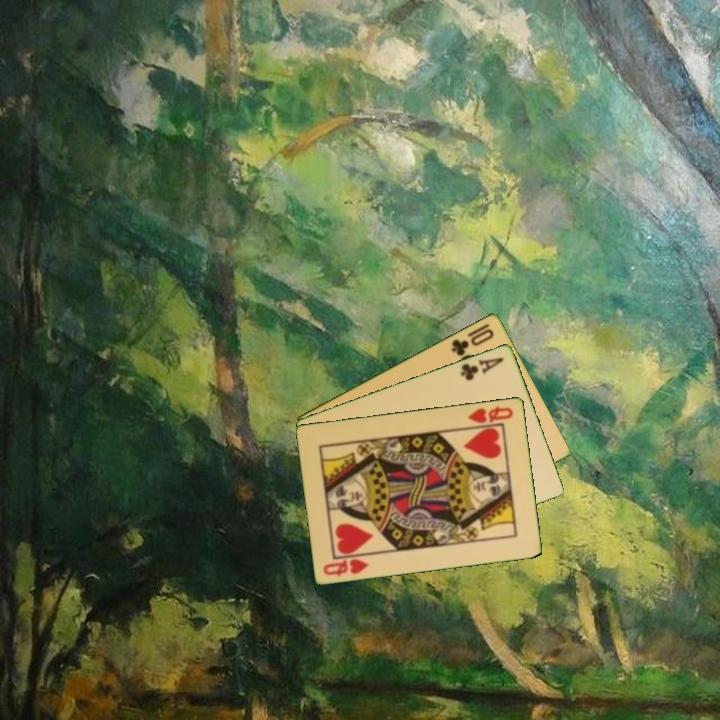10c: (448, 325, 497, 359)
Ac: (457, 353, 506, 383)
Qh: (465, 402, 516, 426), (320, 555, 371, 578)
